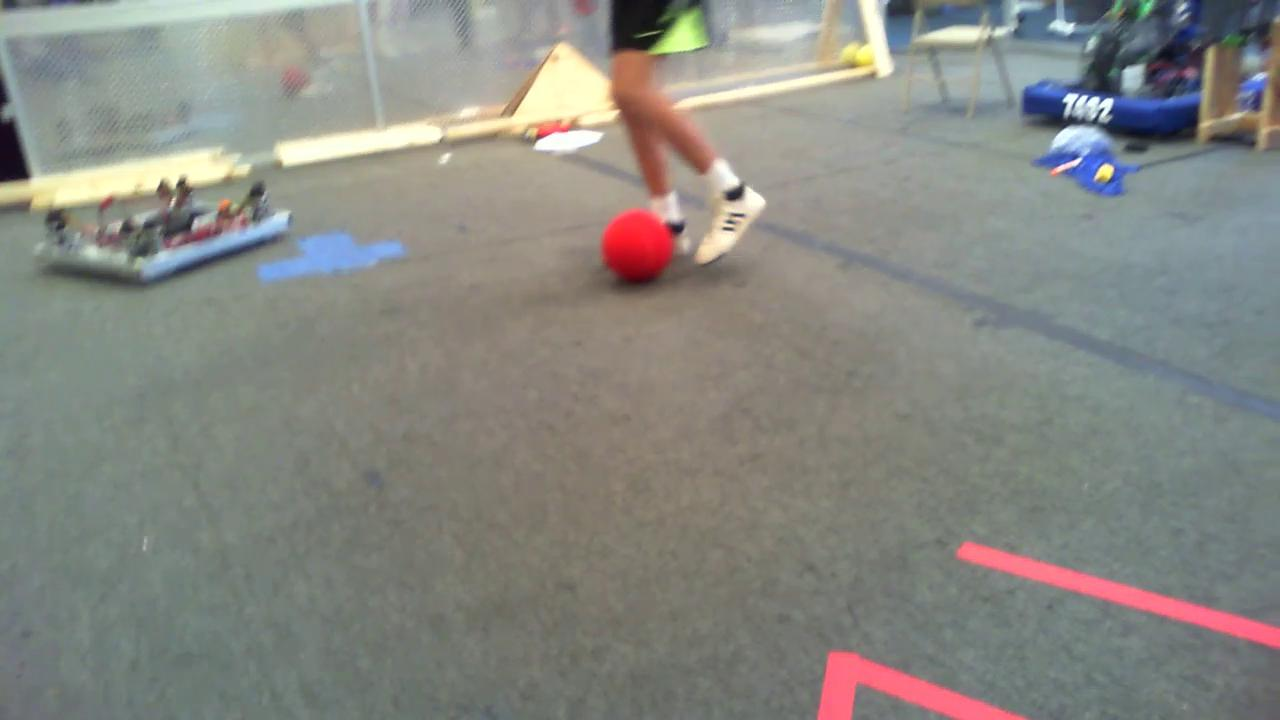Red_Ball: (588, 199, 683, 290)
